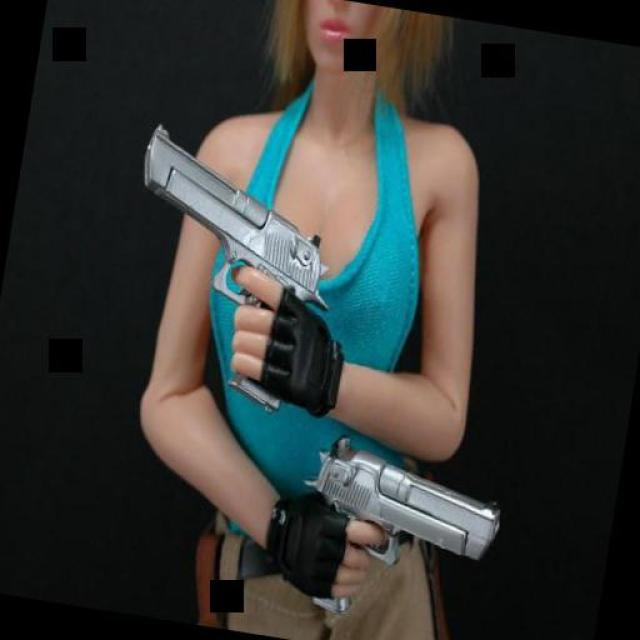gun: (101, 112, 342, 424), (282, 417, 509, 640)
